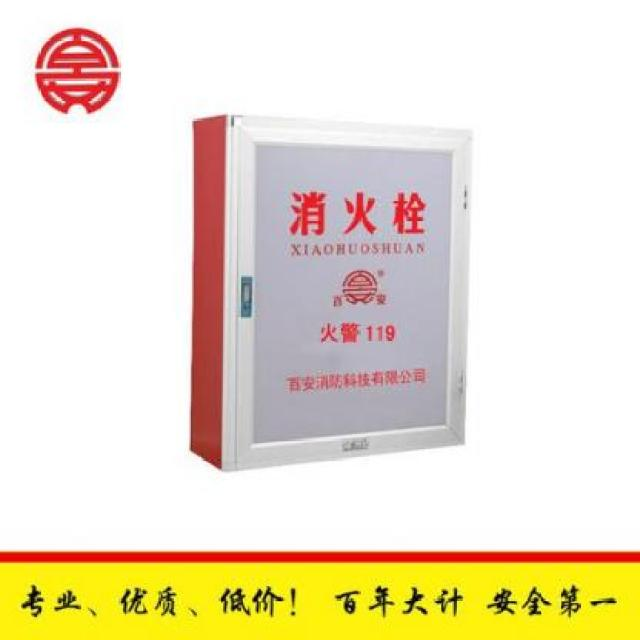firehydrant: (185, 109, 476, 476)
